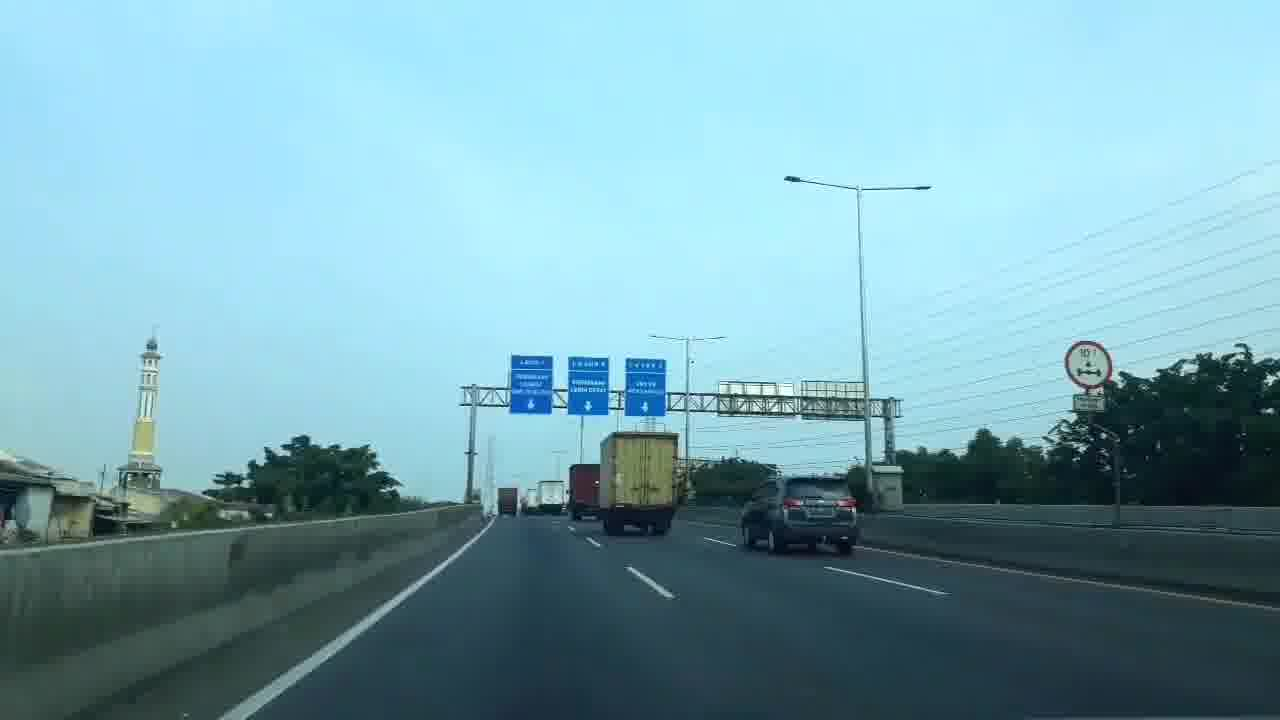plate_positive: (809, 506, 833, 515)
